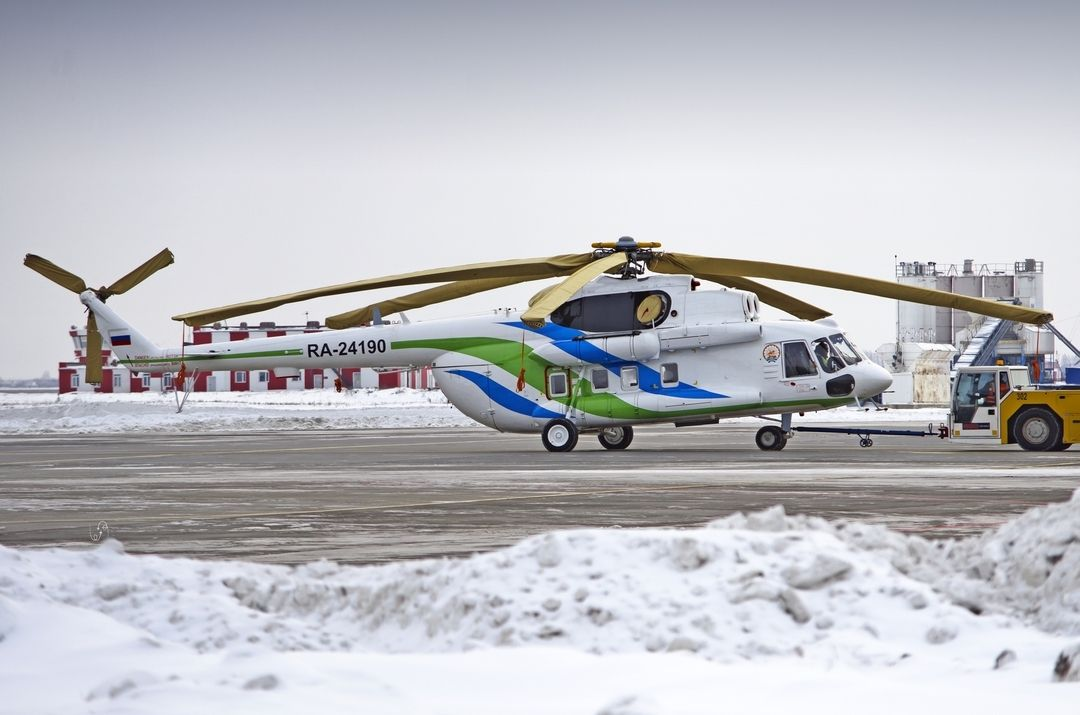number: (305, 336, 389, 362)
